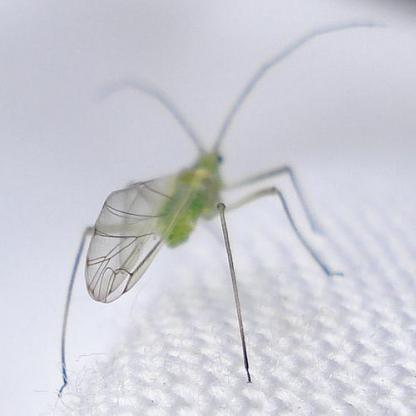aphid: (36, 20, 388, 386)
